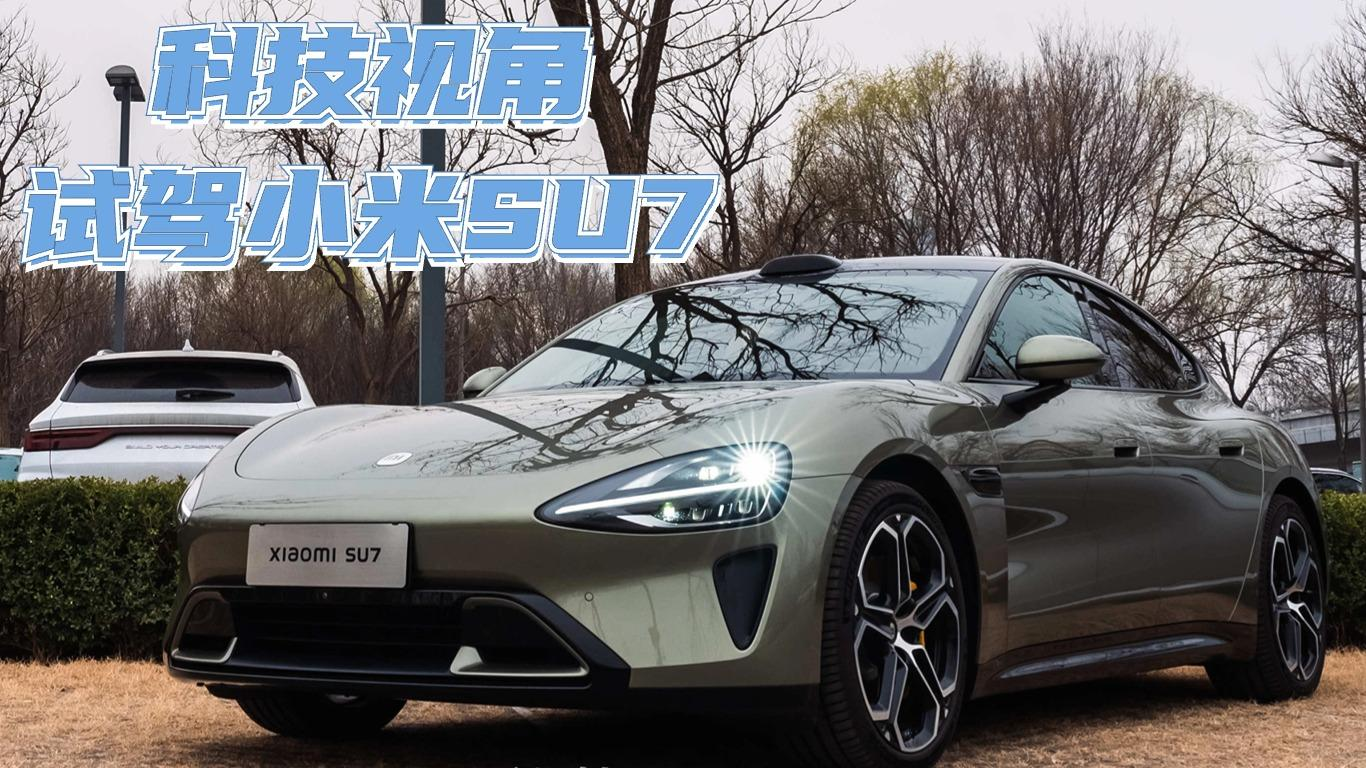su7: (136, 254, 1333, 766)
